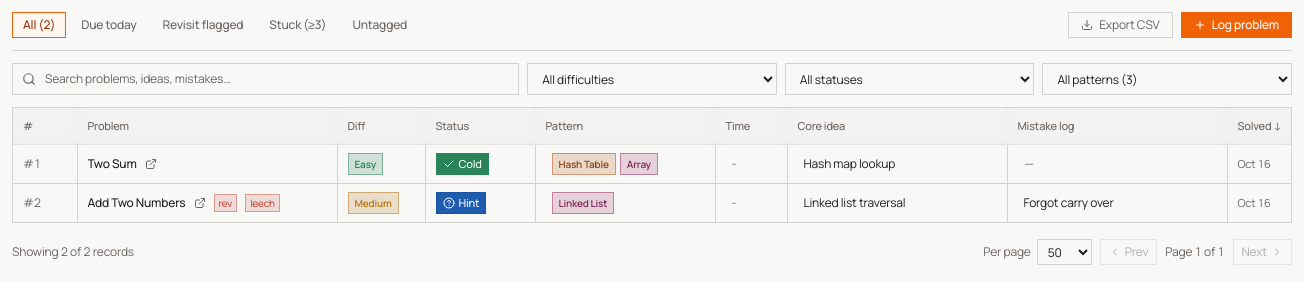
it: DataTable › filters problems by search text
In the field with placeholder "Search problems, ideas, mistakes…": (266, 79) [12,63,519,95], type "Two Sum"
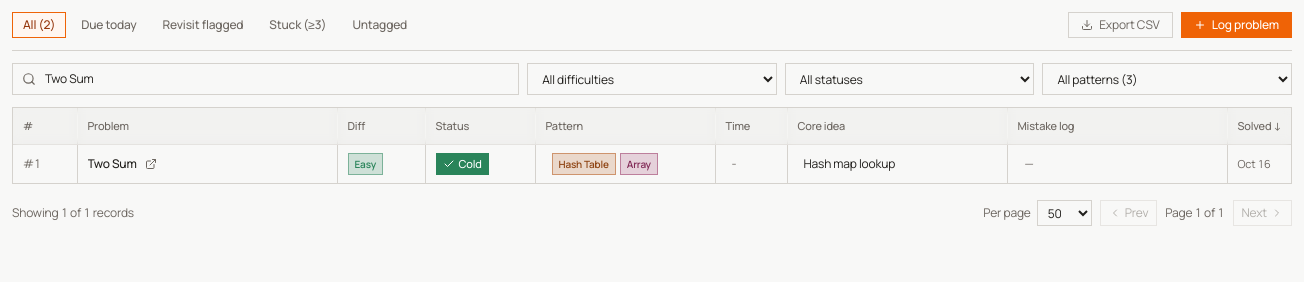
Expected: the link "Two Sum" is shown, [88,156,137,172]
Expected: the link "Add Two Numbers" is gone
